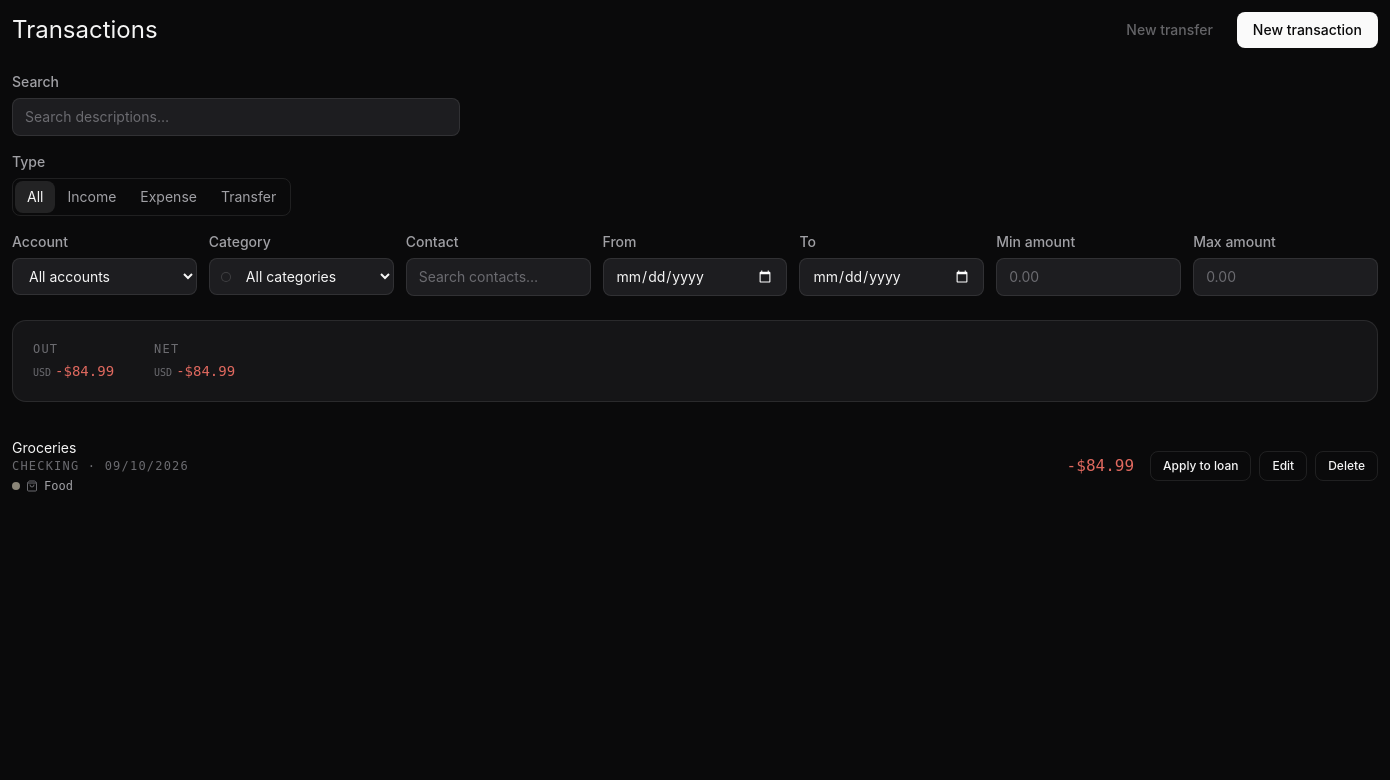
Test: TransactionsScreen — search & filters › shows a distinct 'no results' empty state when filters match nothing (not the first-run state)
Expected: the text "Groceries" is shown, 12,439 -> 76,456
Type "no-such-description" into the search field labelled "Search".
click(236, 117); type("no-such-description")  # box 12,98 -> 460,136
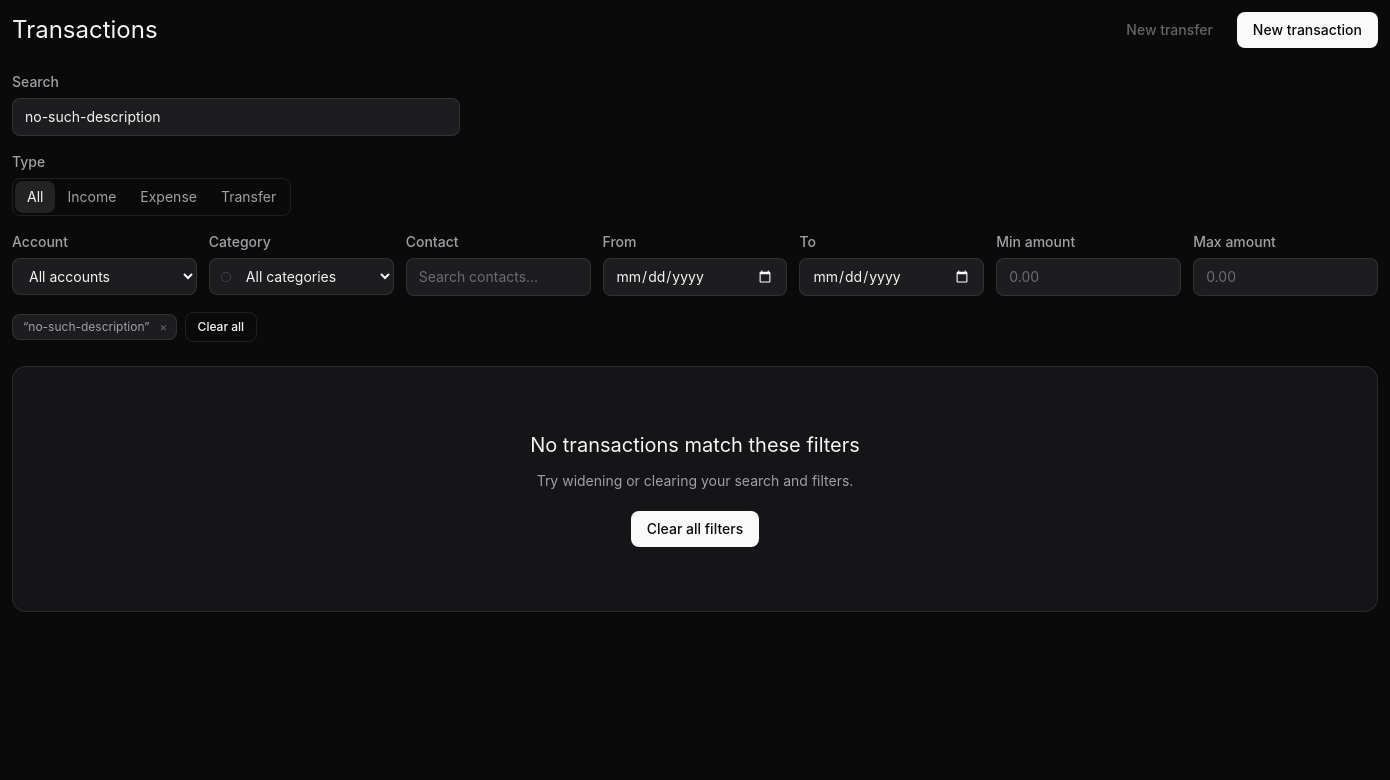
Expected: the heading "No transactions match these filters" is shown, 530,431 -> 860,459
